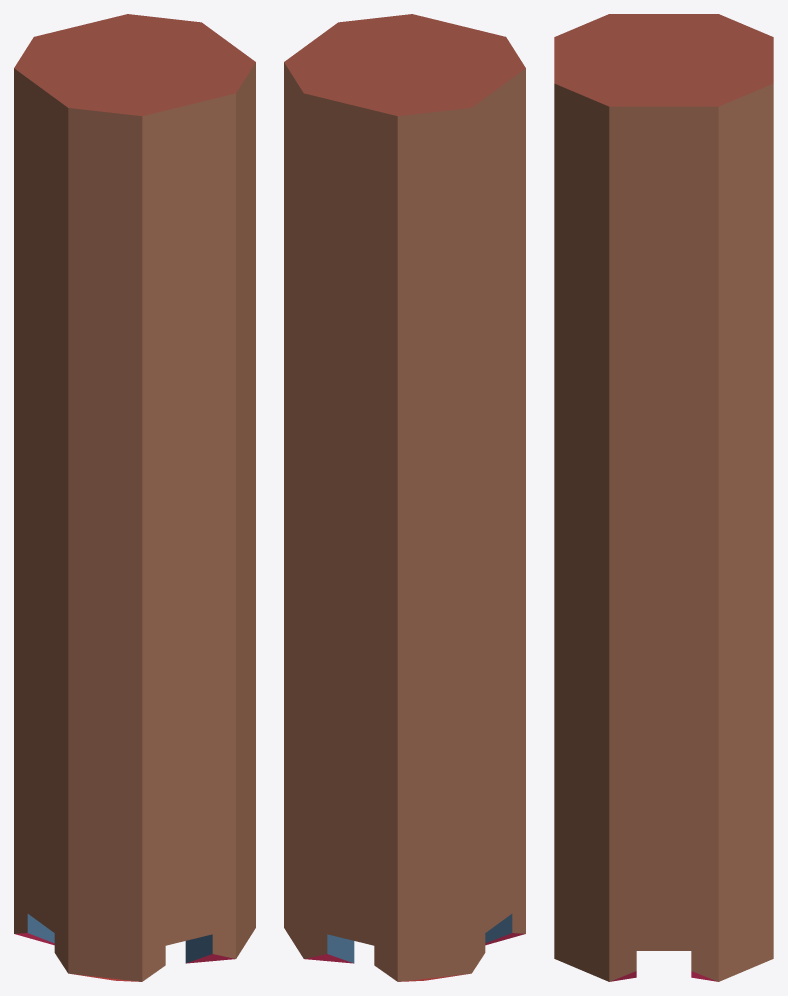
The model's file is wall_shooter.fbx.
3 renders of one model, left to right at view 1: azimuth 30°, elevation 25°; view 2: azimuth 150°, elevation 25°; view 3: azimuth 270°, elevation 25°, orthographic.
Visible parts, largest first — view 1: WallShooter; view 2: WallShooter; view 3: WallShooter.
Boxes of the visible parts, x1=… form: WallShooter: x1=14, y1=14, x2=255, y2=981; WallShooter: x1=284, y1=14, x2=525, y2=981; WallShooter: x1=554, y1=14, x2=773, y2=981.
Bounding box in the file's own units: 300 × 1350 × 300.
